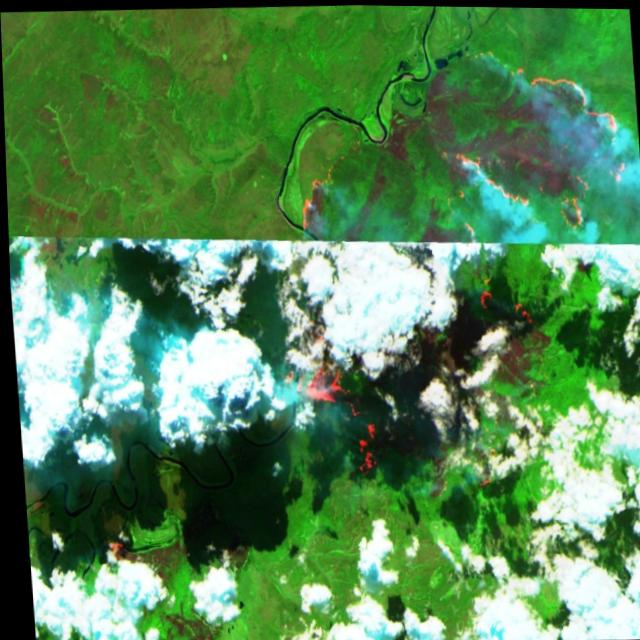fire: (282, 28, 639, 251), (274, 299, 387, 489), (460, 263, 537, 336), (89, 523, 133, 576)
